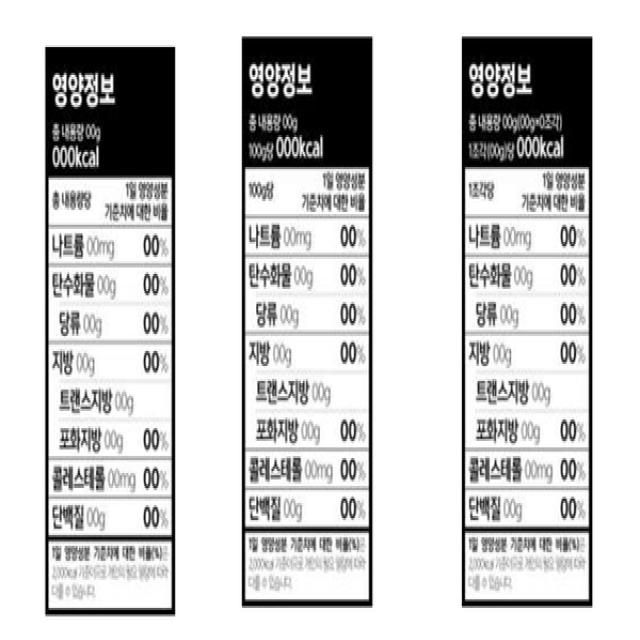Nutrition Label: (227, 19, 400, 630)
